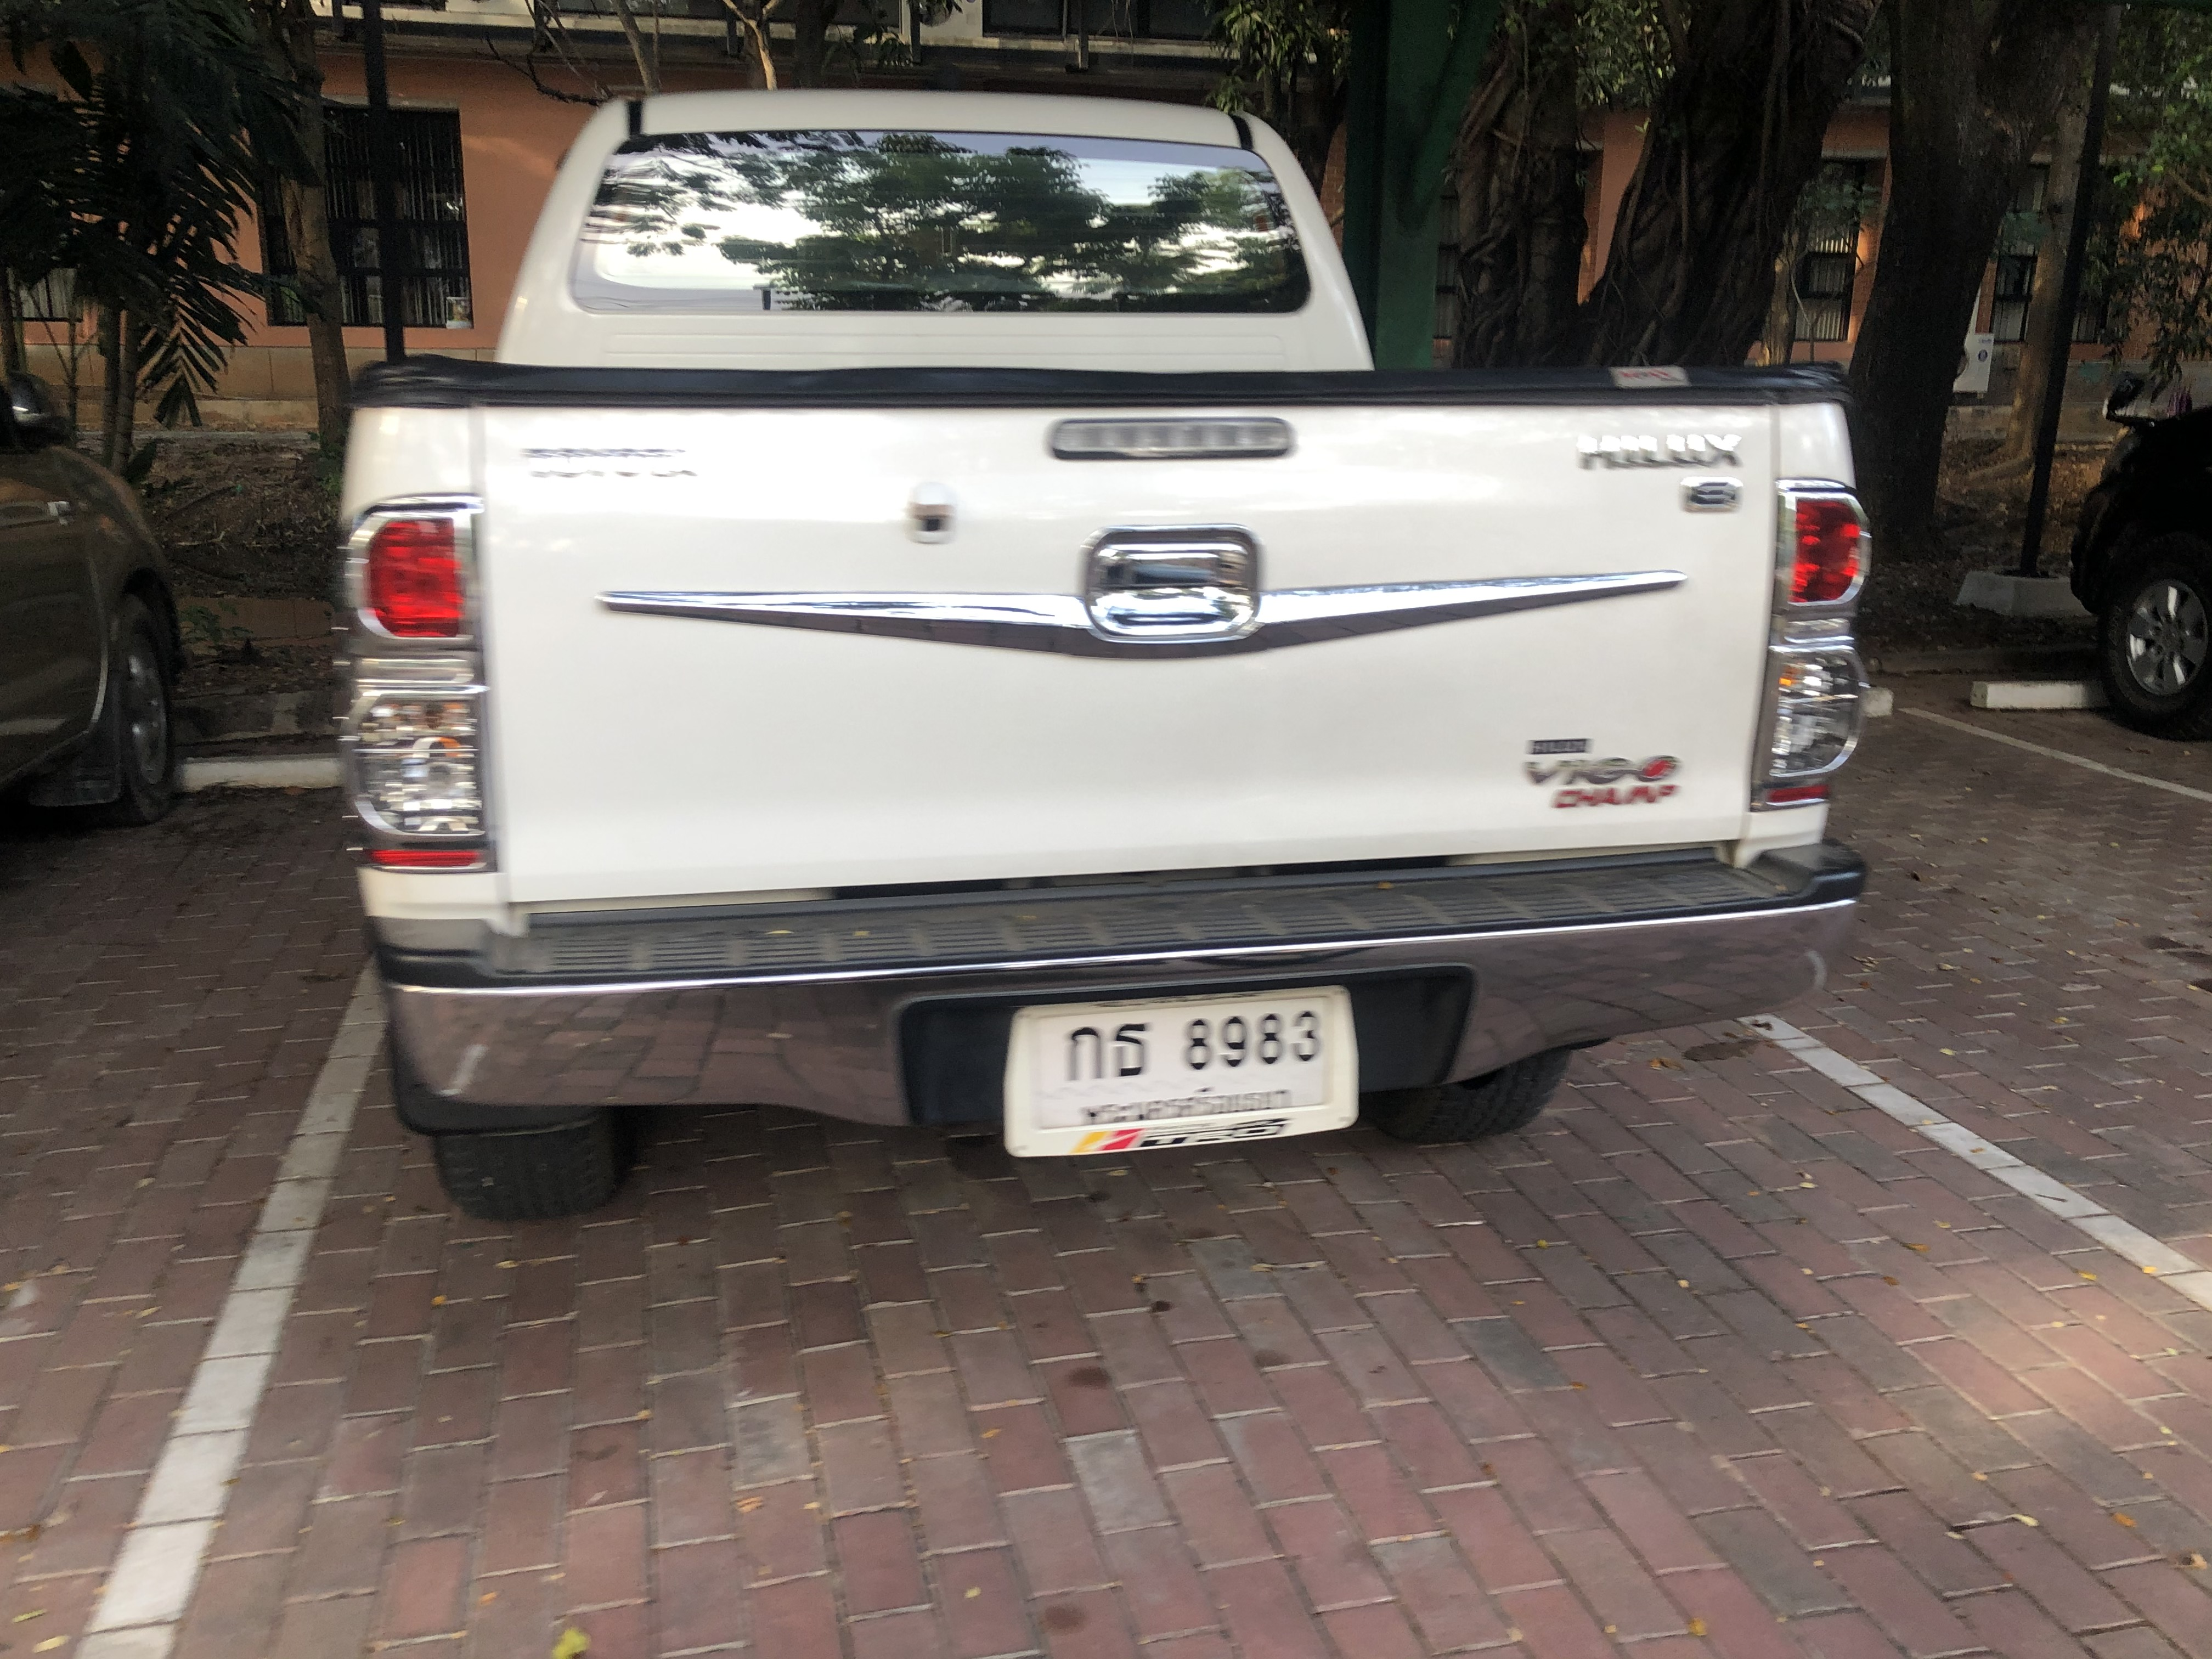in: (1036, 1004, 1334, 1108)
out: (1001, 983, 1371, 1161)
